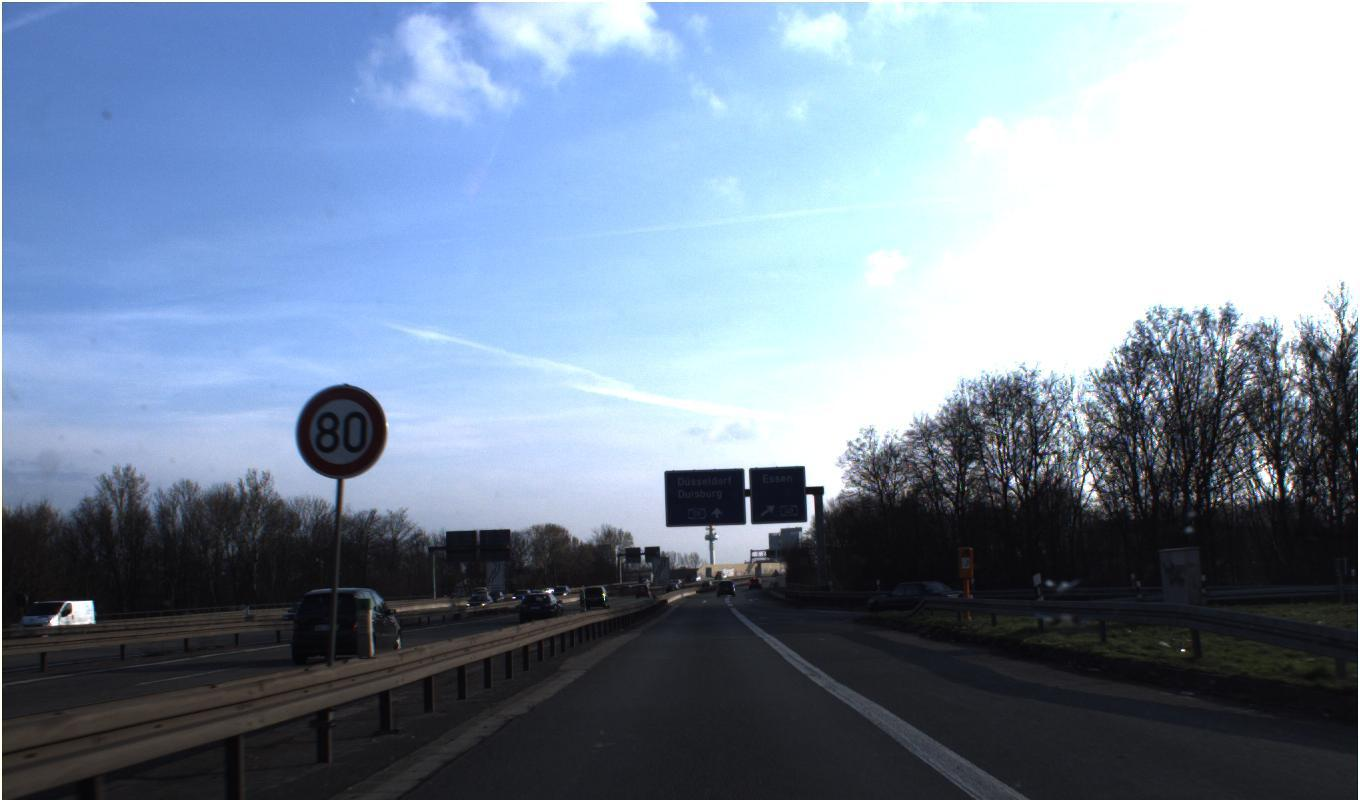speed limit 80 prohibitory: (294, 383, 388, 479)
